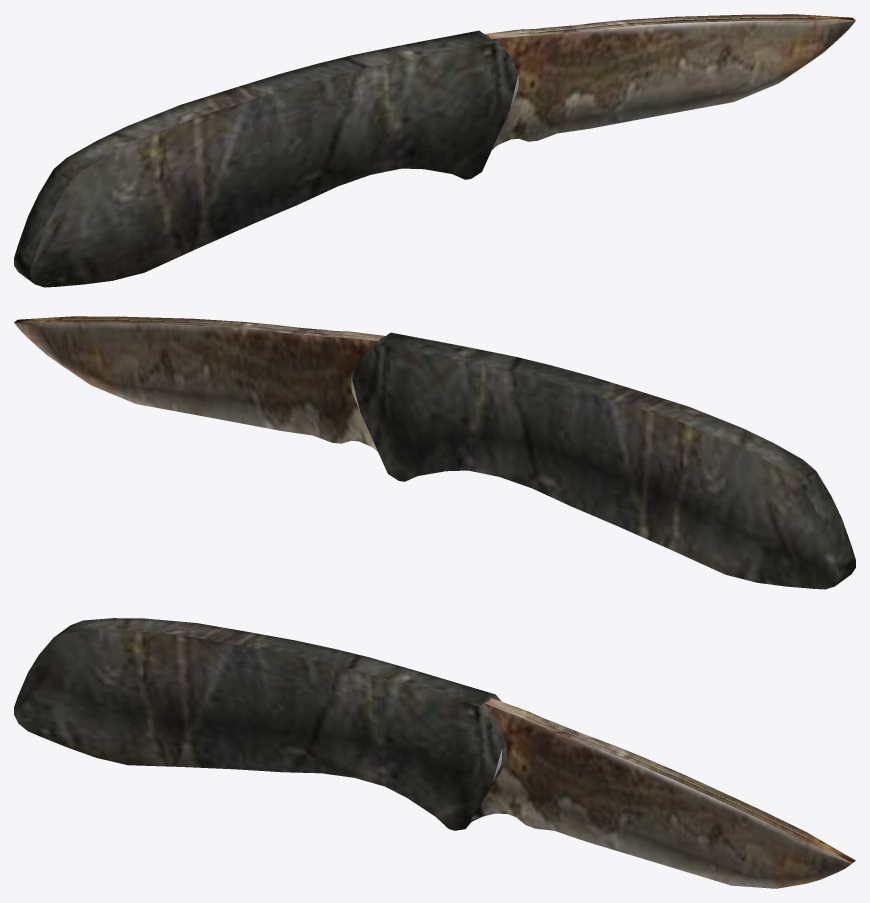
File: cuchillo.obj
3 views of the same model, one above another, from view 1: azimuth 30°, elevation 25°; view 2: azimuth 150°, elevation 25°; view 3: azimuth 330°, elevation 25° (orthographic).
Visible parts, largest first — view 1: Cholo_weapon_Cube.004; view 2: Cholo_weapon_Cube.004; view 3: Cholo_weapon_Cube.004.
Part boxes in pixels (<box>): Cholo_weapon_Cube.004: <box>14,14,855,287</box>; Cholo_weapon_Cube.004: <box>14,316,855,589</box>; Cholo_weapon_Cube.004: <box>14,618,855,888</box>.
Size of the model in its own units: 4.93 by 0.8554 by 0.1711.
1 material, 1 textured.
